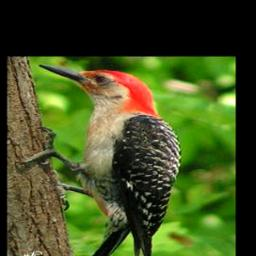Woodpecker: (14, 63, 184, 256)
